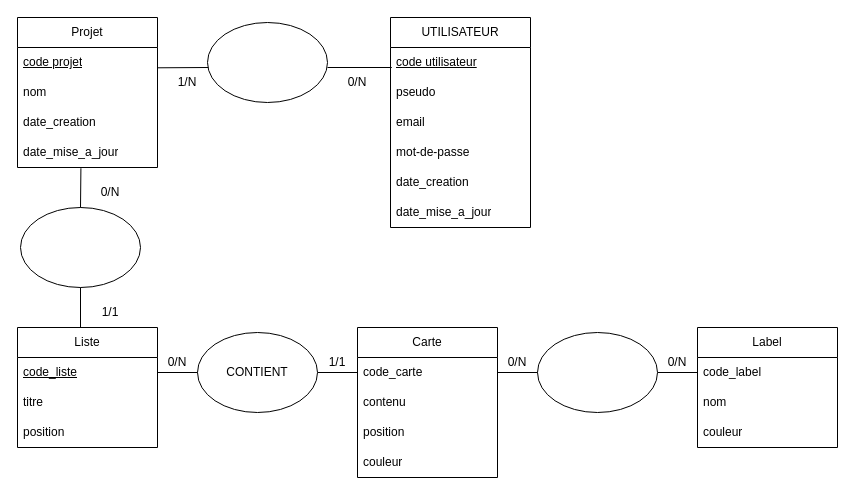
This 855x495 diagram has some shape labels left out. The shapes that lost their labels are listed below. From the top down, each one's centre as x and y in pixels, then its label:
(x=267, y=62): CREER
(x=80, y=247): APPARTIENT
(x=597, y=372): POSSEDE
